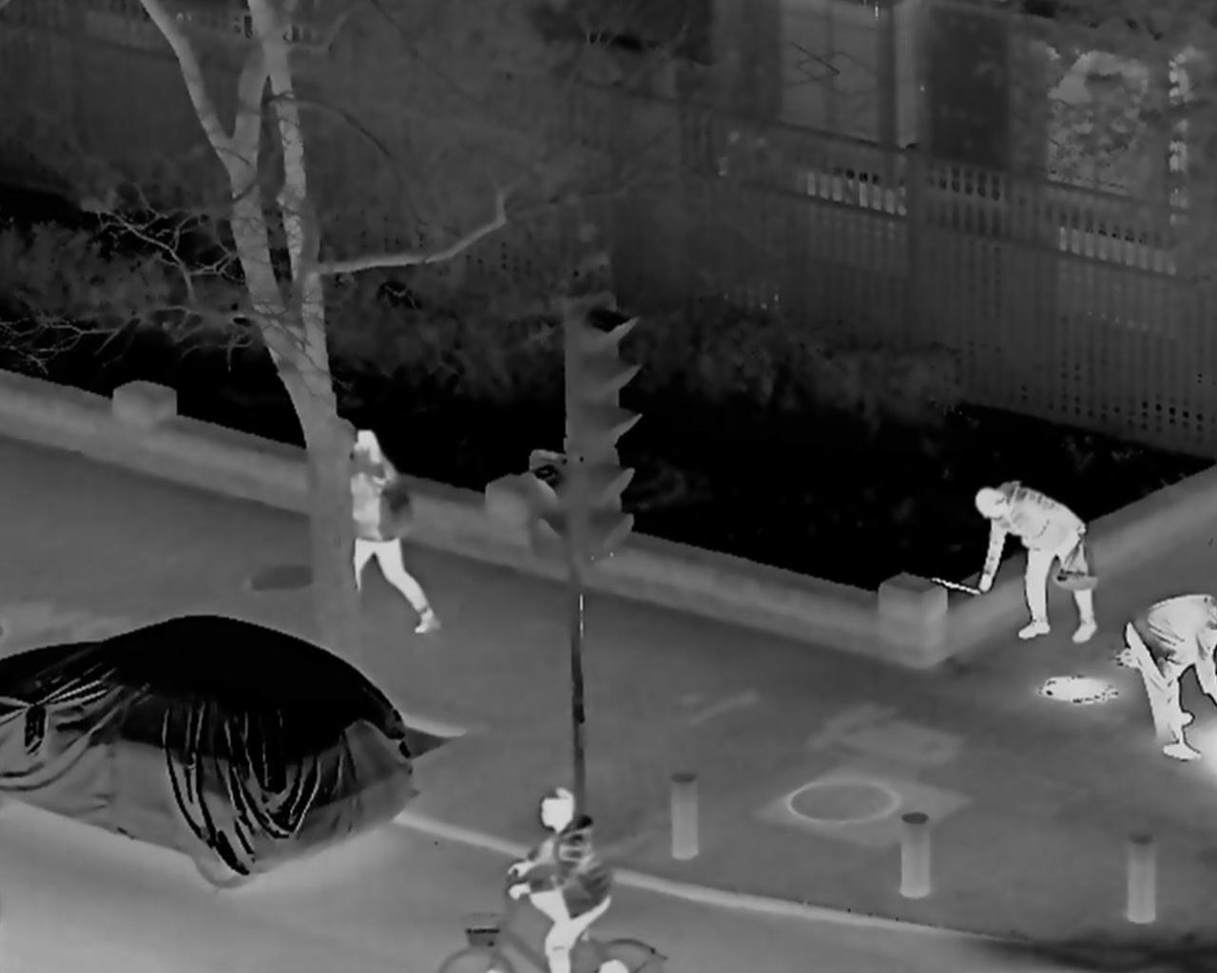person: (337, 424, 440, 639), (971, 481, 1100, 646), (506, 790, 614, 973), (1118, 593, 1217, 763)
